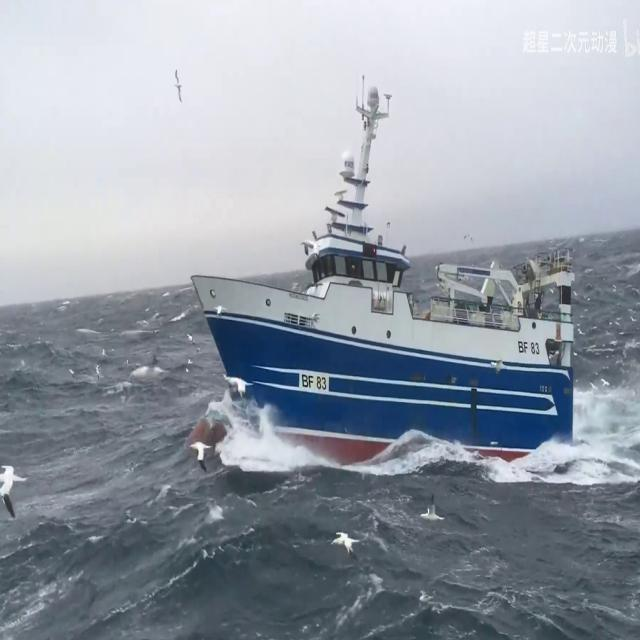houseboat: (179, 80, 585, 497)
